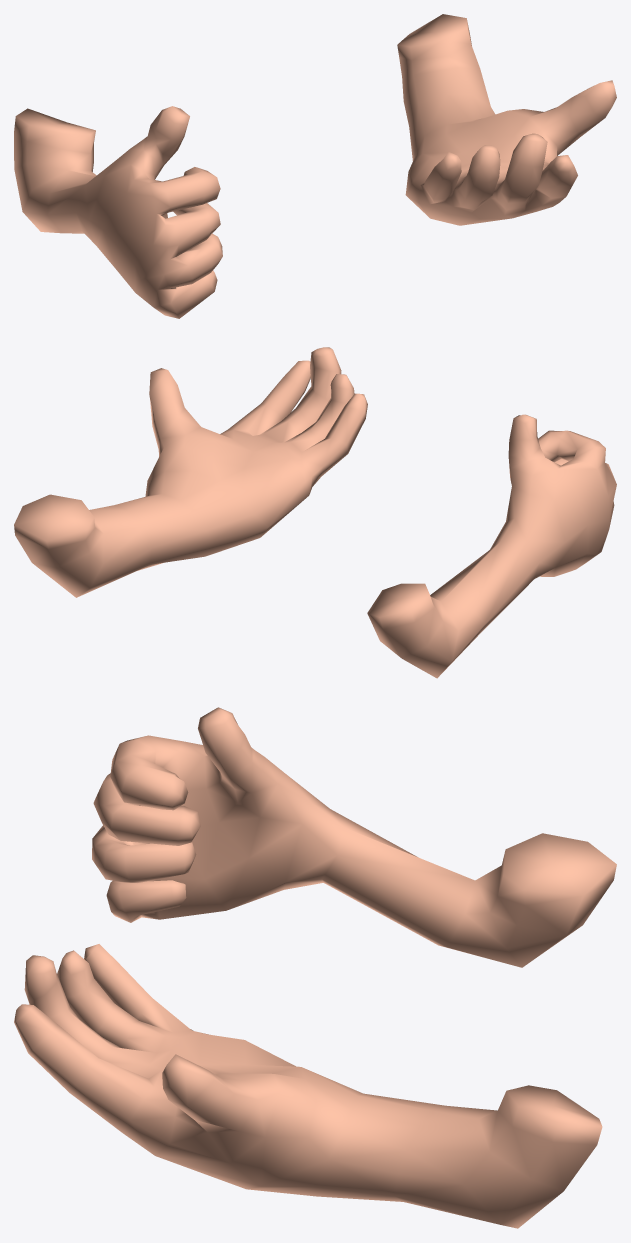
The model's file is AF_M_Arm_12.FBX.
3 views of the same model, one above another, from view 1: azimuth 30°, elevation 25°; view 2: azimuth 150°, elevation 25°; view 3: azimuth 270°, elevation 25° (orthographic). The views are drawn at different scales.
Parts seen in each view (by area): view 1: AF_M_Arm_12; view 2: AF_M_Arm_12; view 3: AF_M_Arm_12.
Boxes of the visible parts, x1,y1,x2,y2 form: AF_M_Arm_12: (14,14,616,318); AF_M_Arm_12: (14,347,616,678); AF_M_Arm_12: (14,707,616,1228).
Bounding box in the file's own units: 501 × 205 × 404.
1 material, 1 textured.
